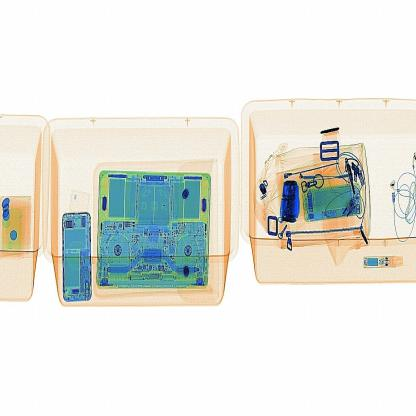scissors: (270, 170, 310, 236)
